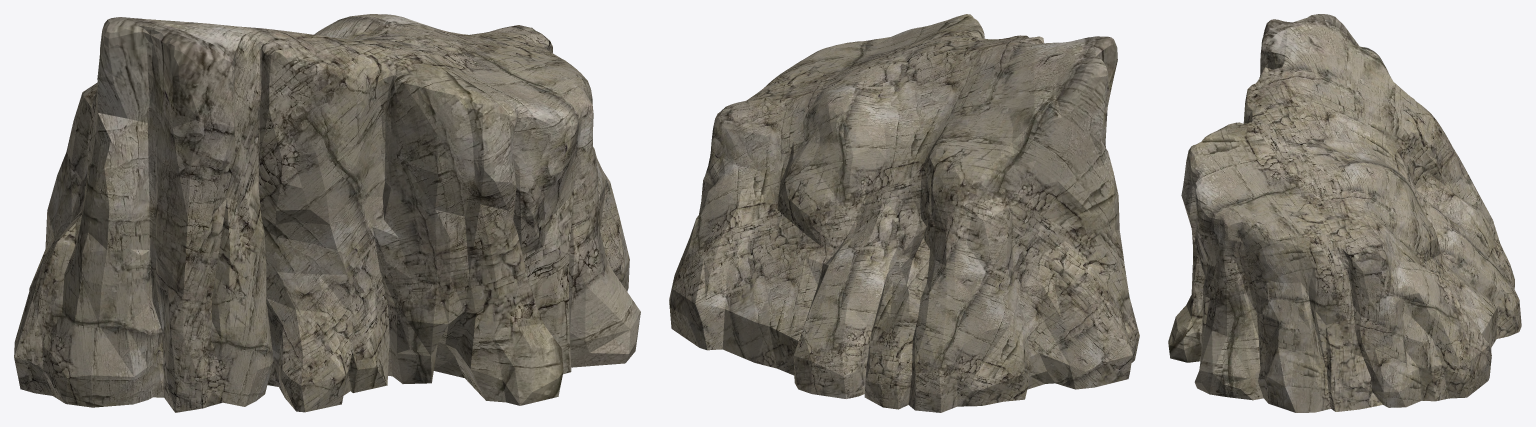
Rendered from tw2_1_rock_05_5-transformed.glb.
The picture shows the model from 3 angles, left to right: view 1: azimuth 30°, elevation 25°; view 2: azimuth 150°, elevation 25°; view 3: azimuth 270°, elevation 25°; orthographic projection. The views are drawn at different scales.
Parts seen in each view (by area): view 1: default; view 2: default; view 3: default.
Part boxes in pixels (x1=…): default: x1=14, y1=14, x2=640, y2=412; default: x1=669, y1=14, x2=1139, y2=412; default: x1=1168, y1=14, x2=1521, y2=412.
Bounding box in the file's own units: 12.65 × 7.99 × 10.48.
Materials: 1 (1 with a texture image).
